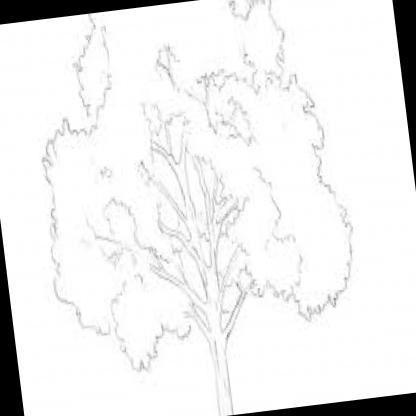branch_cut: (131, 110, 262, 350)
crown_cloud: (21, 0, 365, 379)
trunk_bark: (208, 352, 238, 406)
